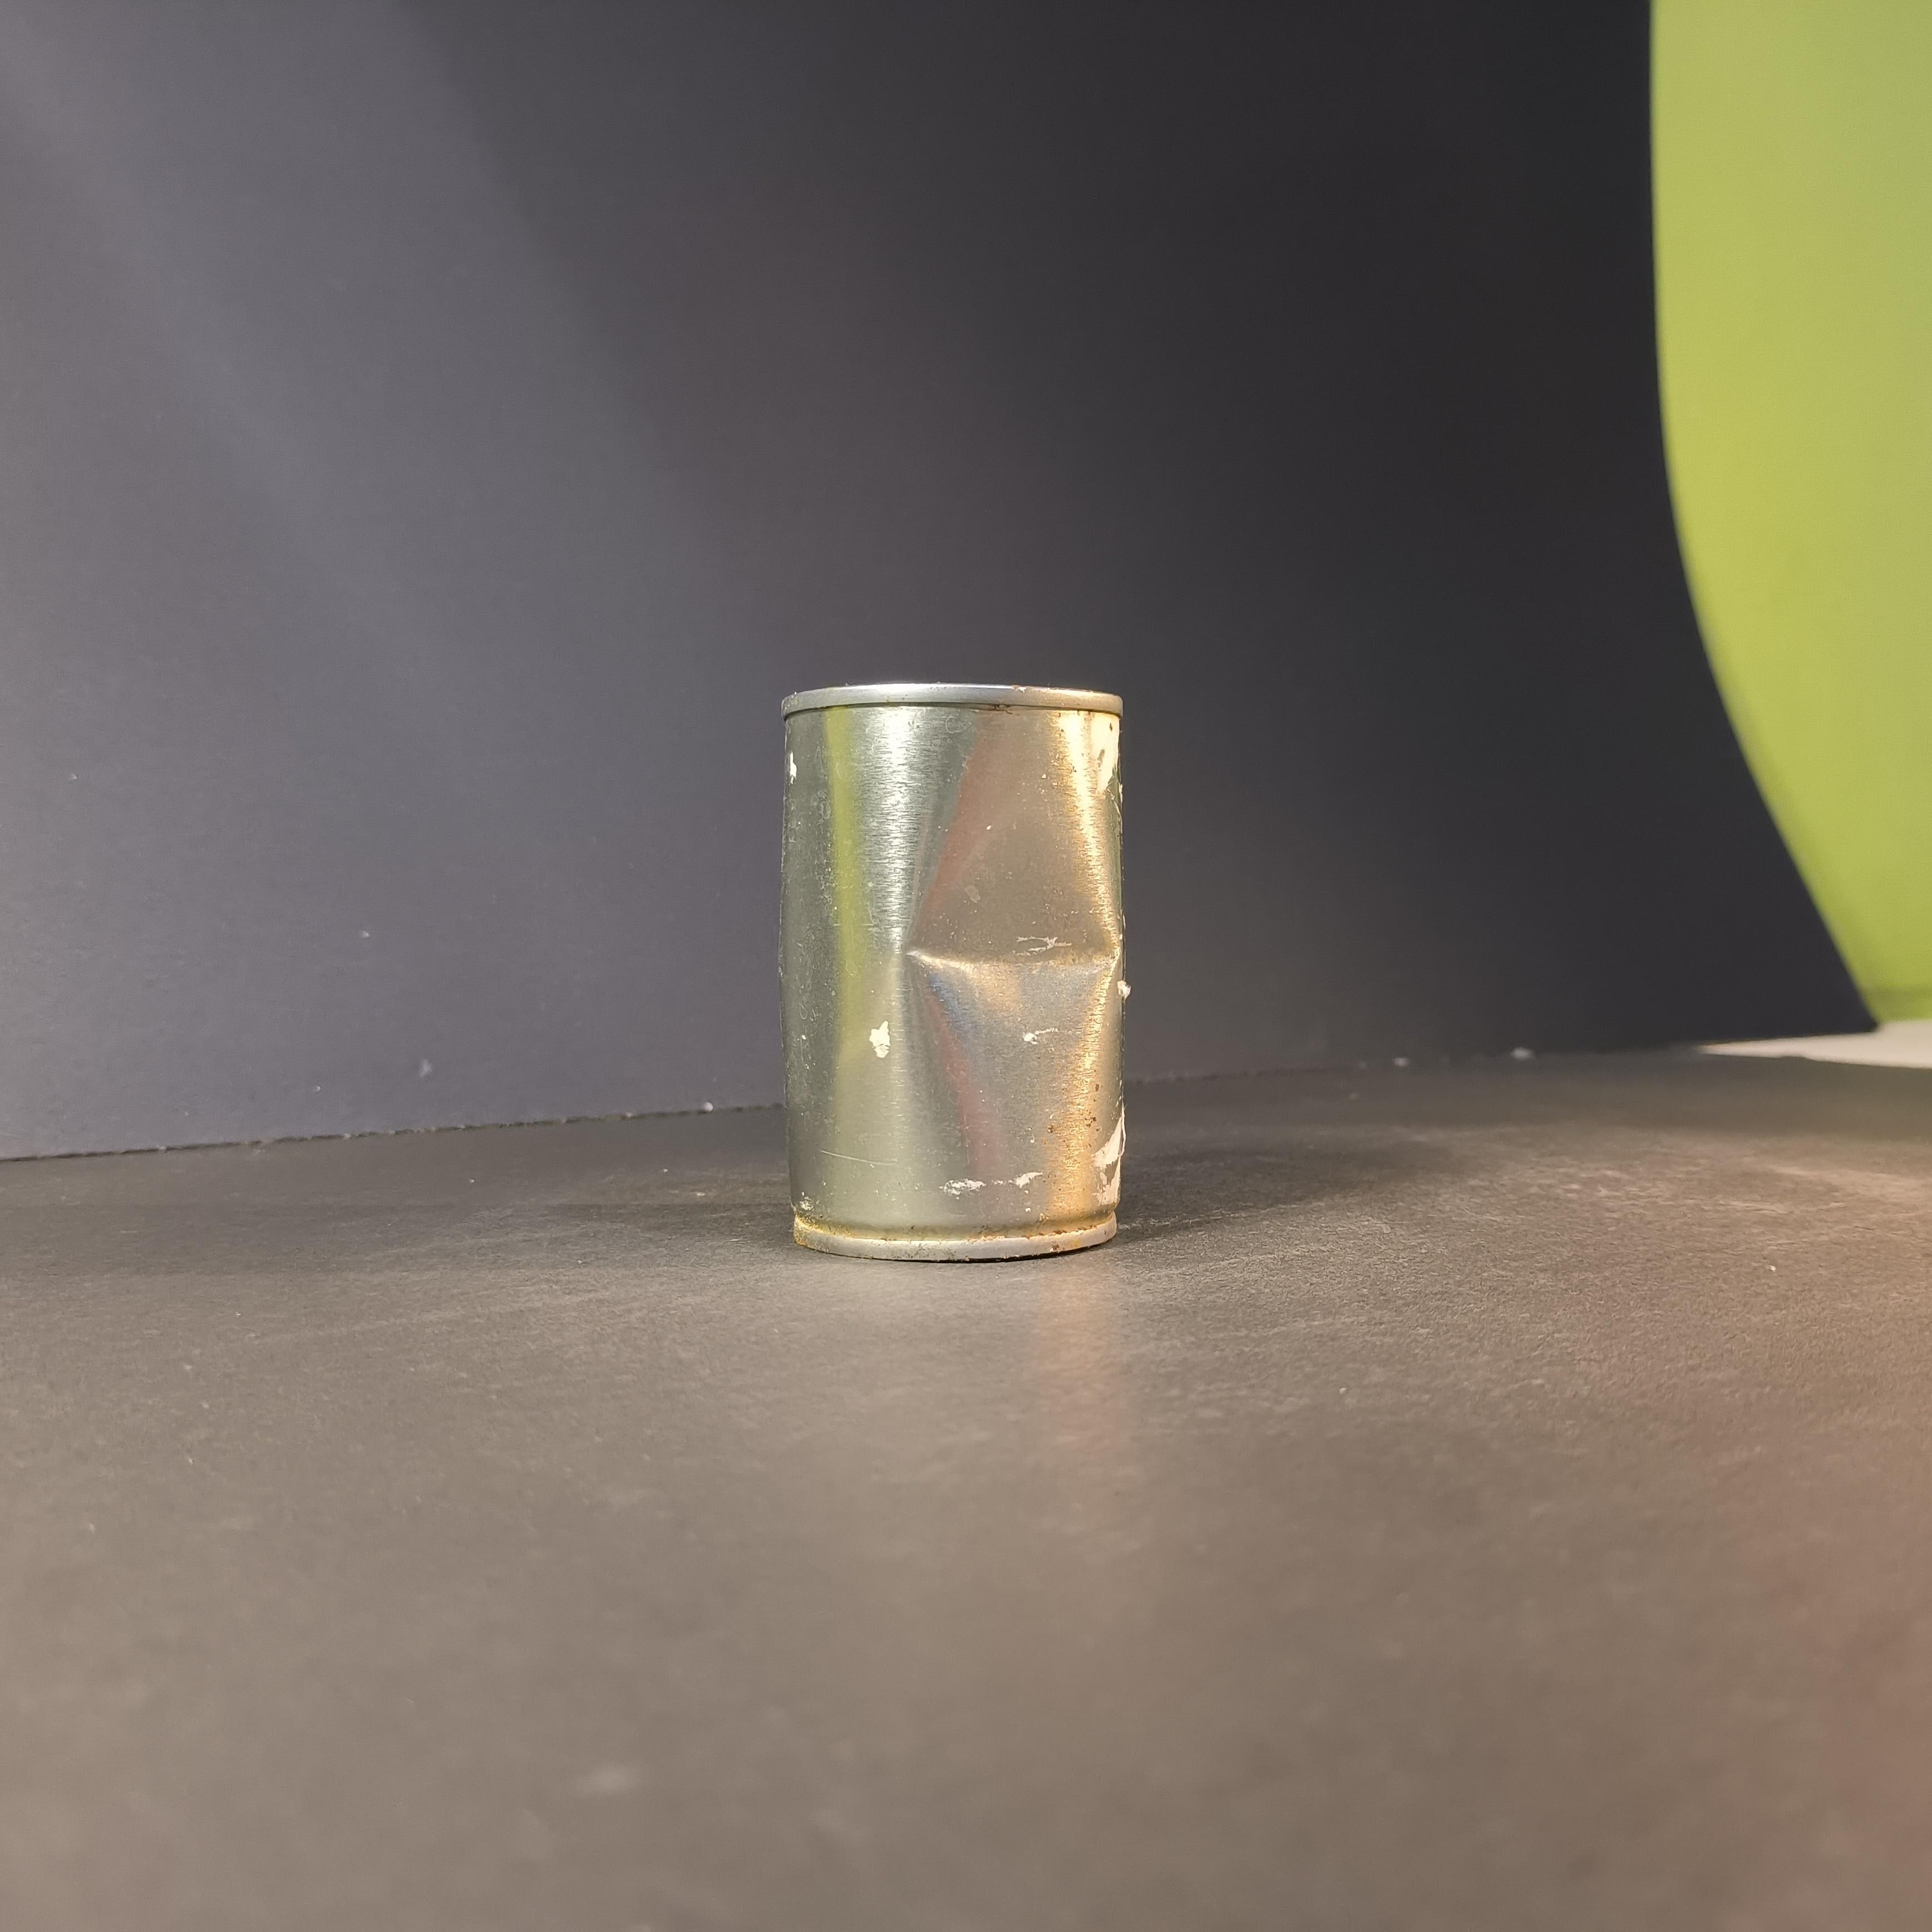Dented: (763, 656, 1152, 1269)
